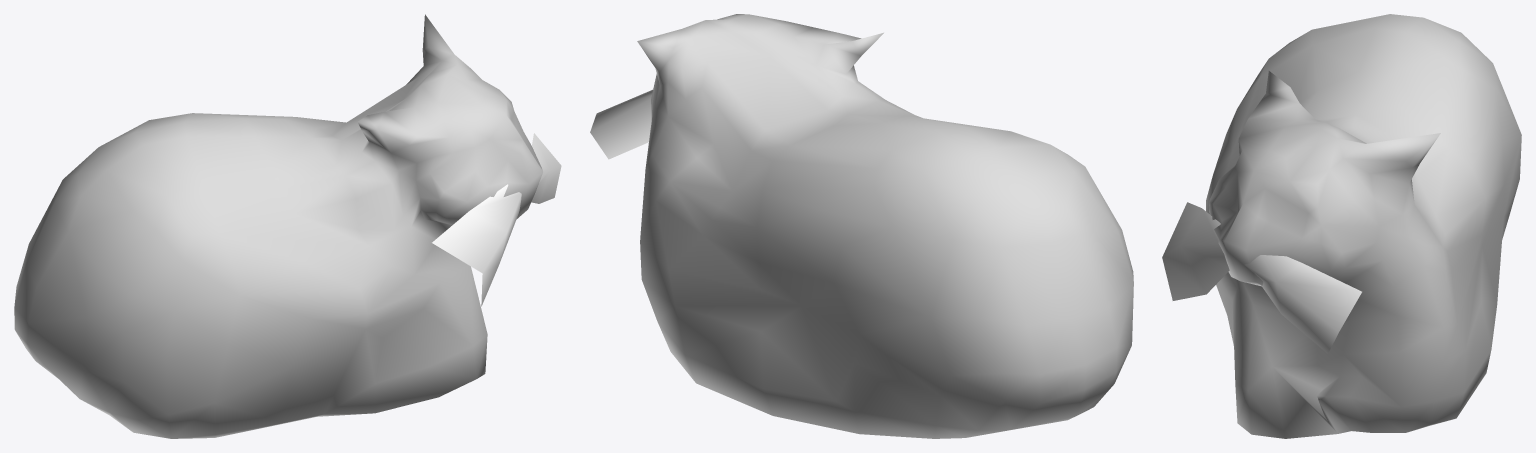
The model's file is maxwell_the_cat.glb.
3 renders of one model, left to right at view 1: azimuth 30°, elevation 25°; view 2: azimuth 150°, elevation 25°; view 3: azimuth 270°, elevation 25°, orthographic. The views are drawn at different scales.
Visible parts, largest first — view 1: dingus; view 2: dingus; view 3: dingus.
Part boxes in pixels (left/top/right/bottom): dingus: left=14, top=14, right=561, bottom=438; dingus: left=590, top=14, right=1133, bottom=438; dingus: left=1162, top=14, right=1521, bottom=438.
Size of the model in its own units: 33.23 by 19.21 by 18.75.
2 materials, 1 textured.
